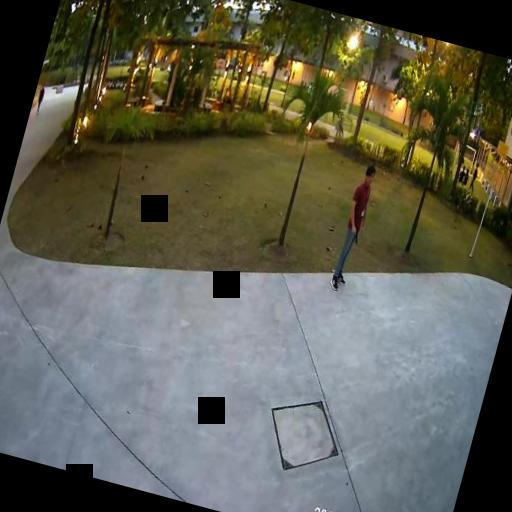Handgun: (347, 224, 359, 243)
